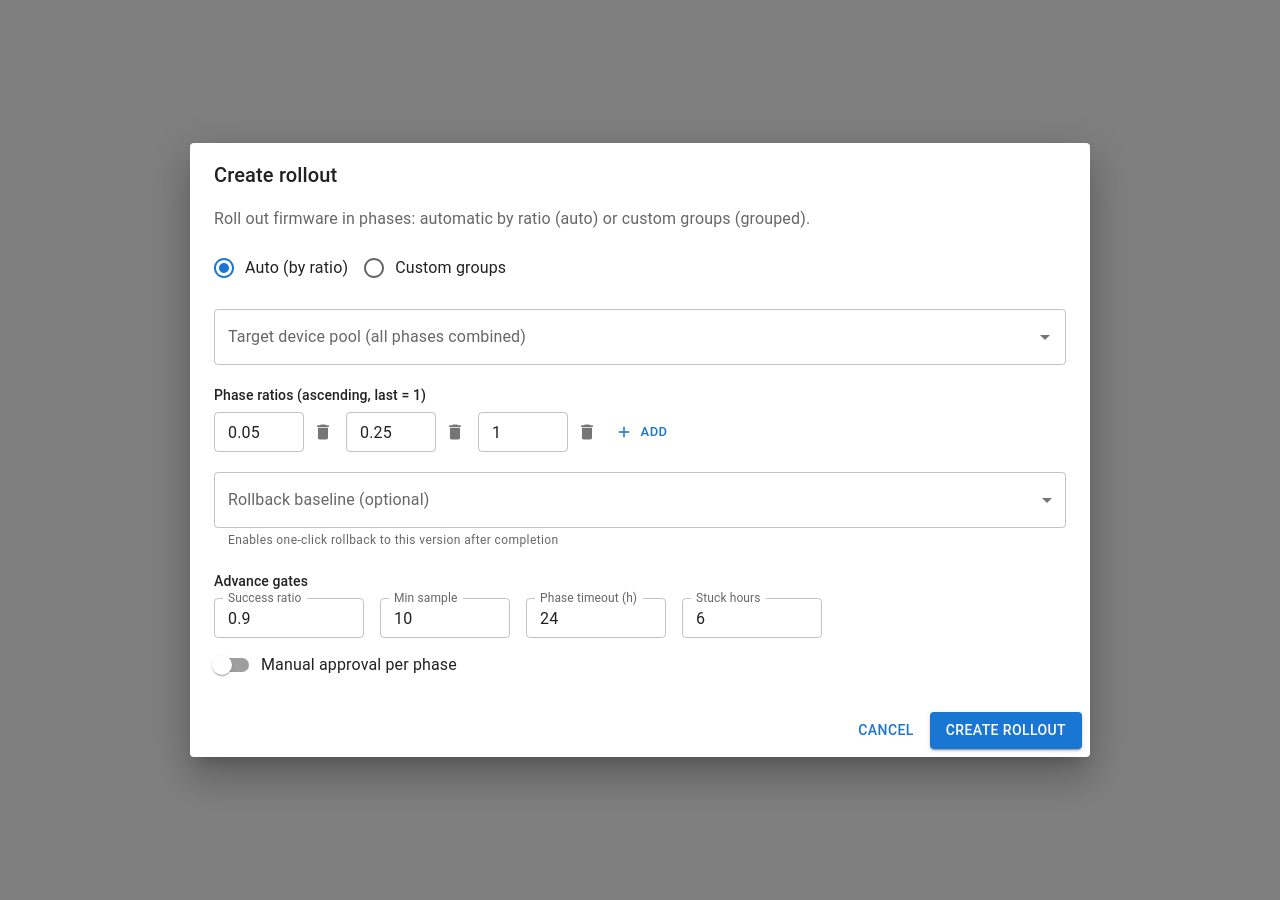
Test: RolloutCreateDialog validation › grouped strategy: rejects zero groups
Click the radio button labelled "Custom groups" at coordinates (434, 268), box [362,256,506,280]
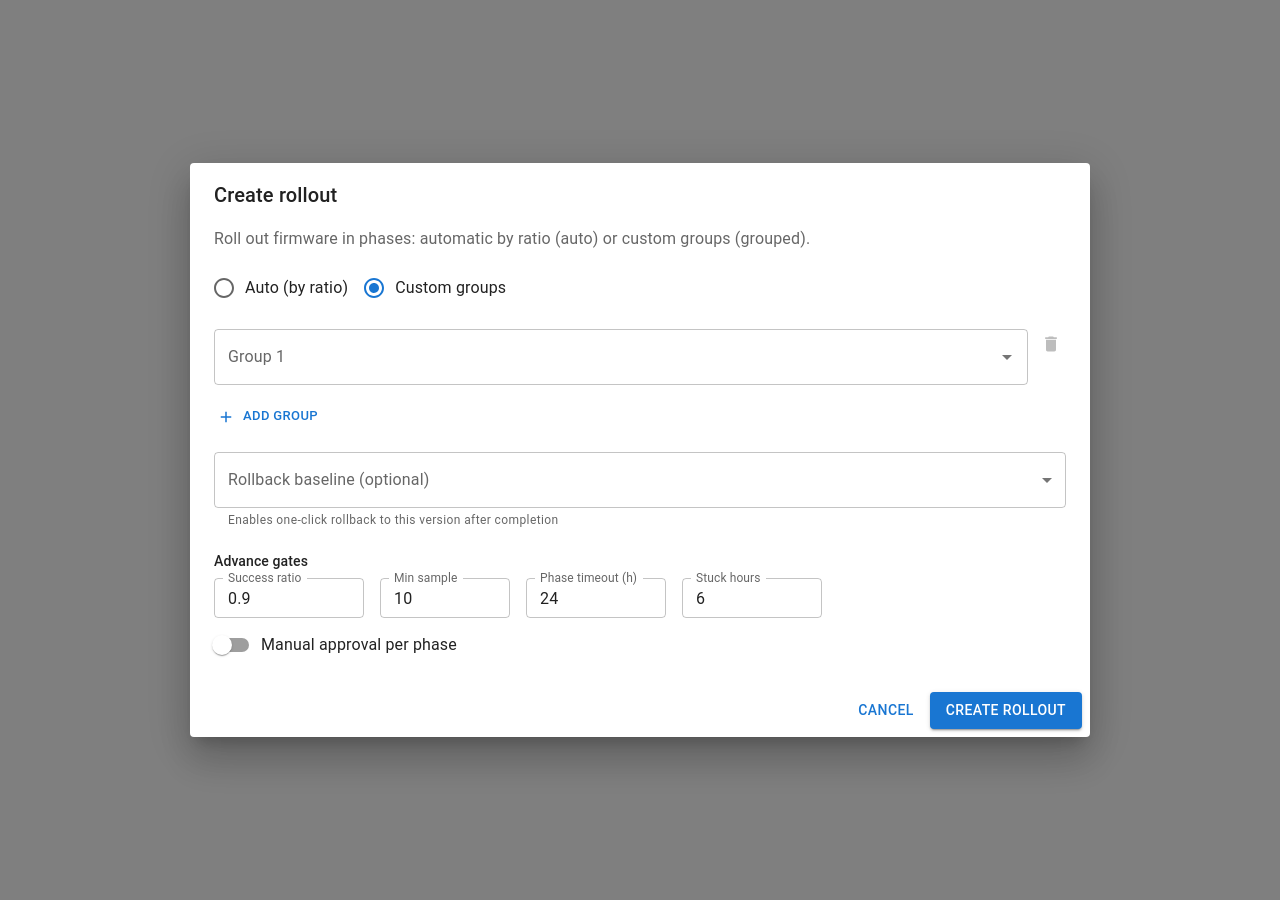
Submit the form, box [190,164,1090,736]
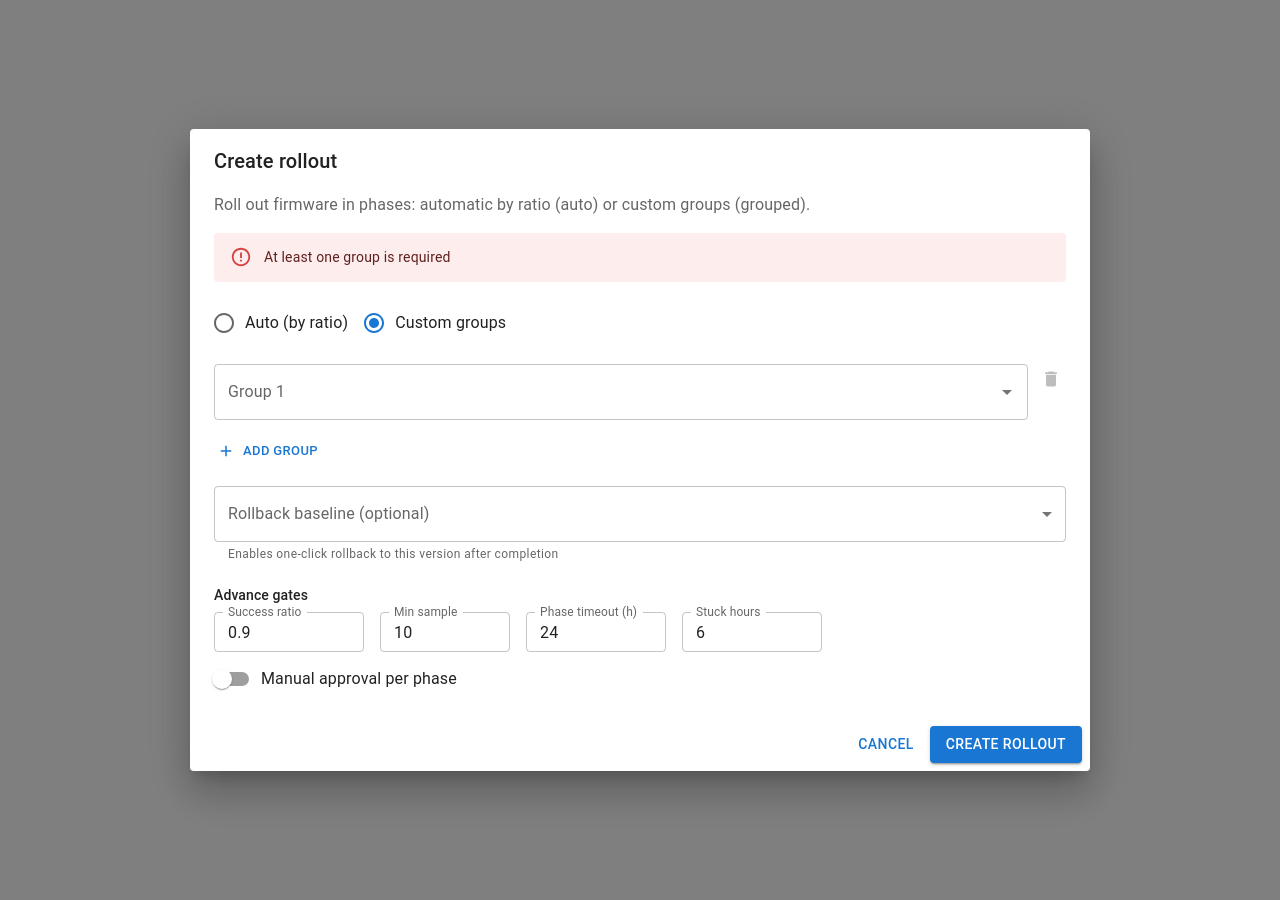
Result: the text "At least one group is required" is shown at [264,250,451,266]
